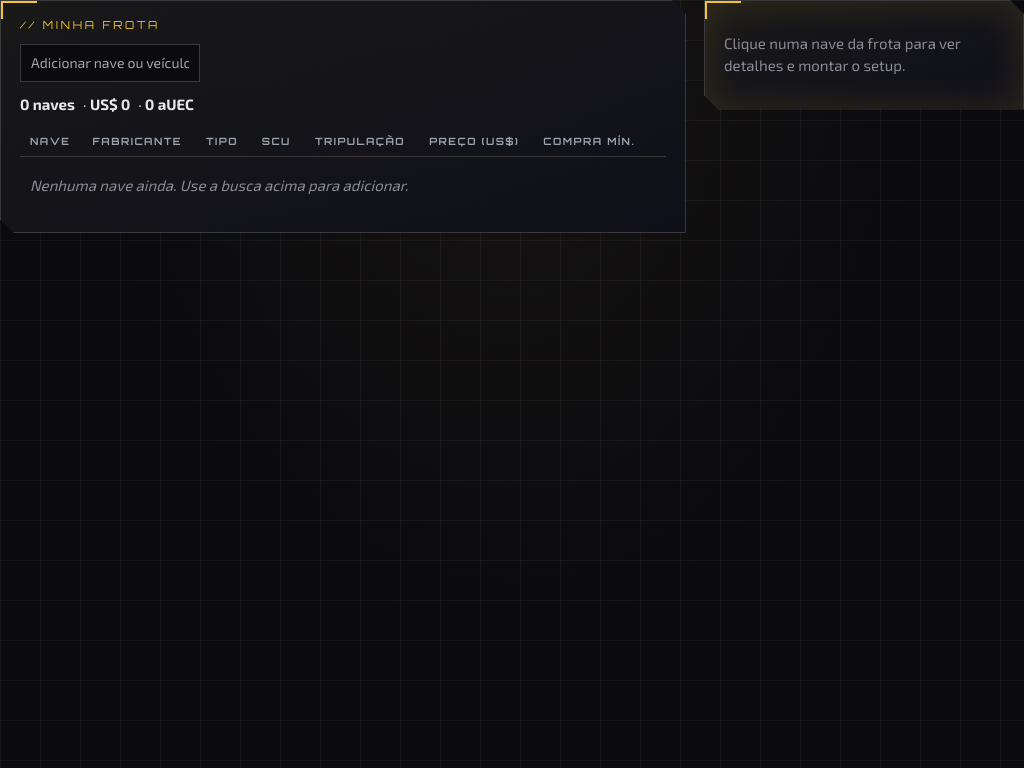
Scenario: FleetView › adicionar pela busca cria a linha com os dados
Type "prosp" into the dropdown labelled "Adicionar nave ou veículo" at (110, 63), box [20,44,200,82]
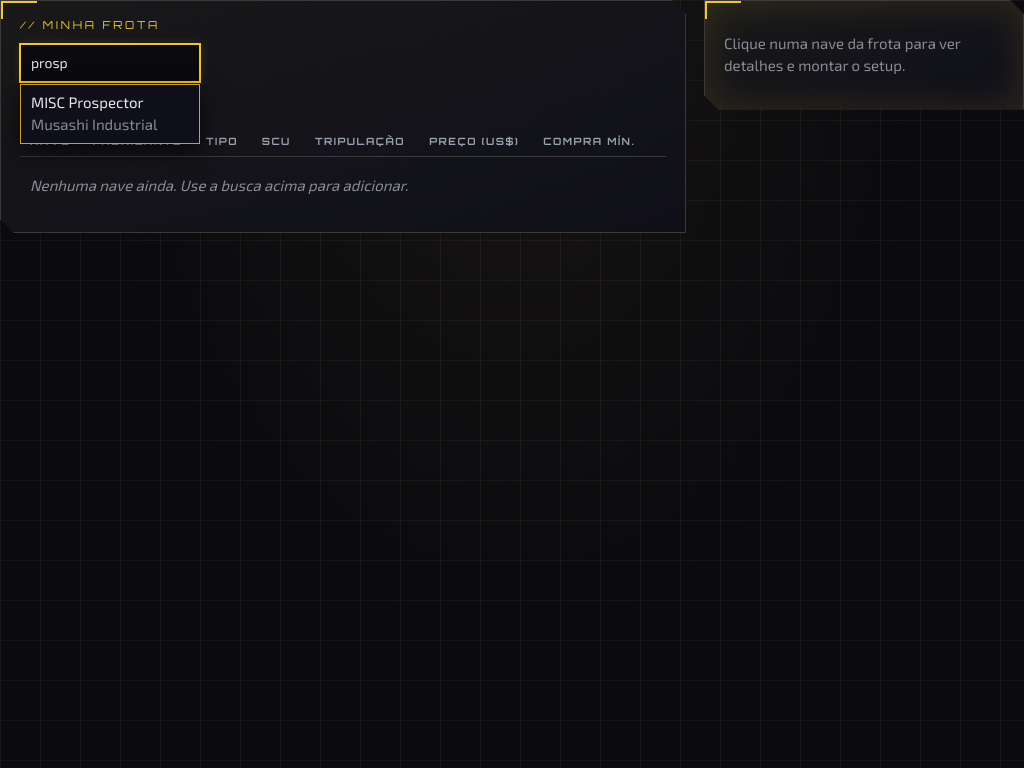
Click the option "MISC Prospector Musashi Industrial" at (94, 113), box [31,93,158,133]
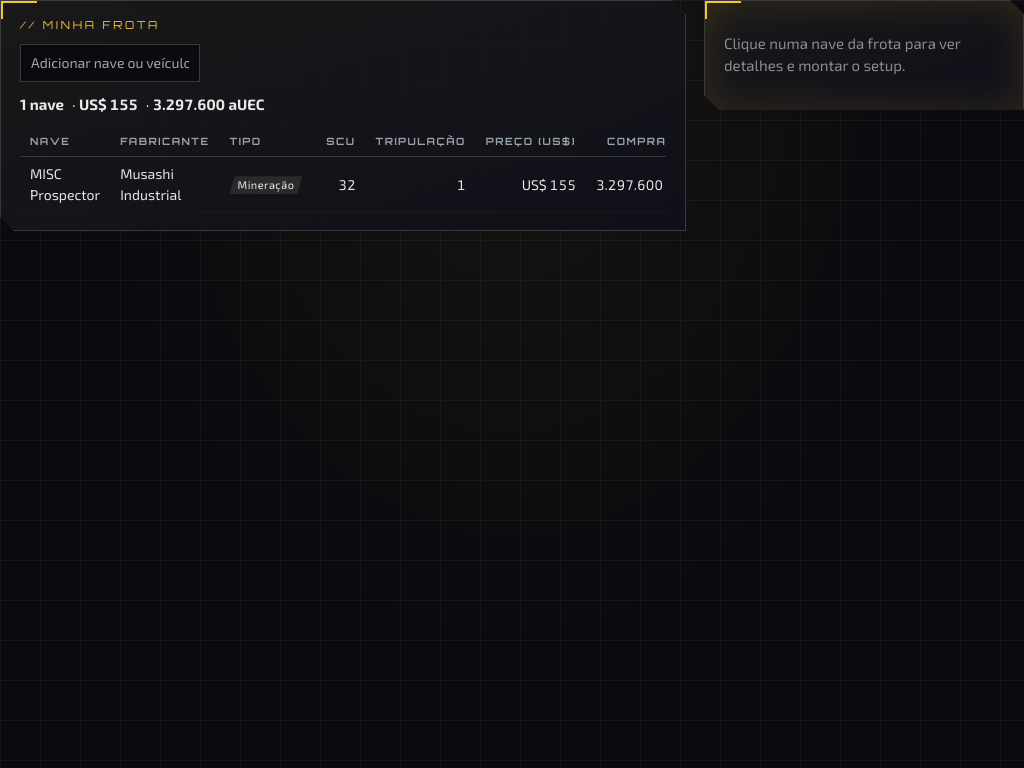
Check: the row "MISC Prospector" shows "Musashi Industrial", box [120,166,181,203]
Check: the row "MISC Prospector" shows "Mineração", box [238,178,294,191]
Check: the row "MISC Prospector" shows "32", box [338,176,356,193]
